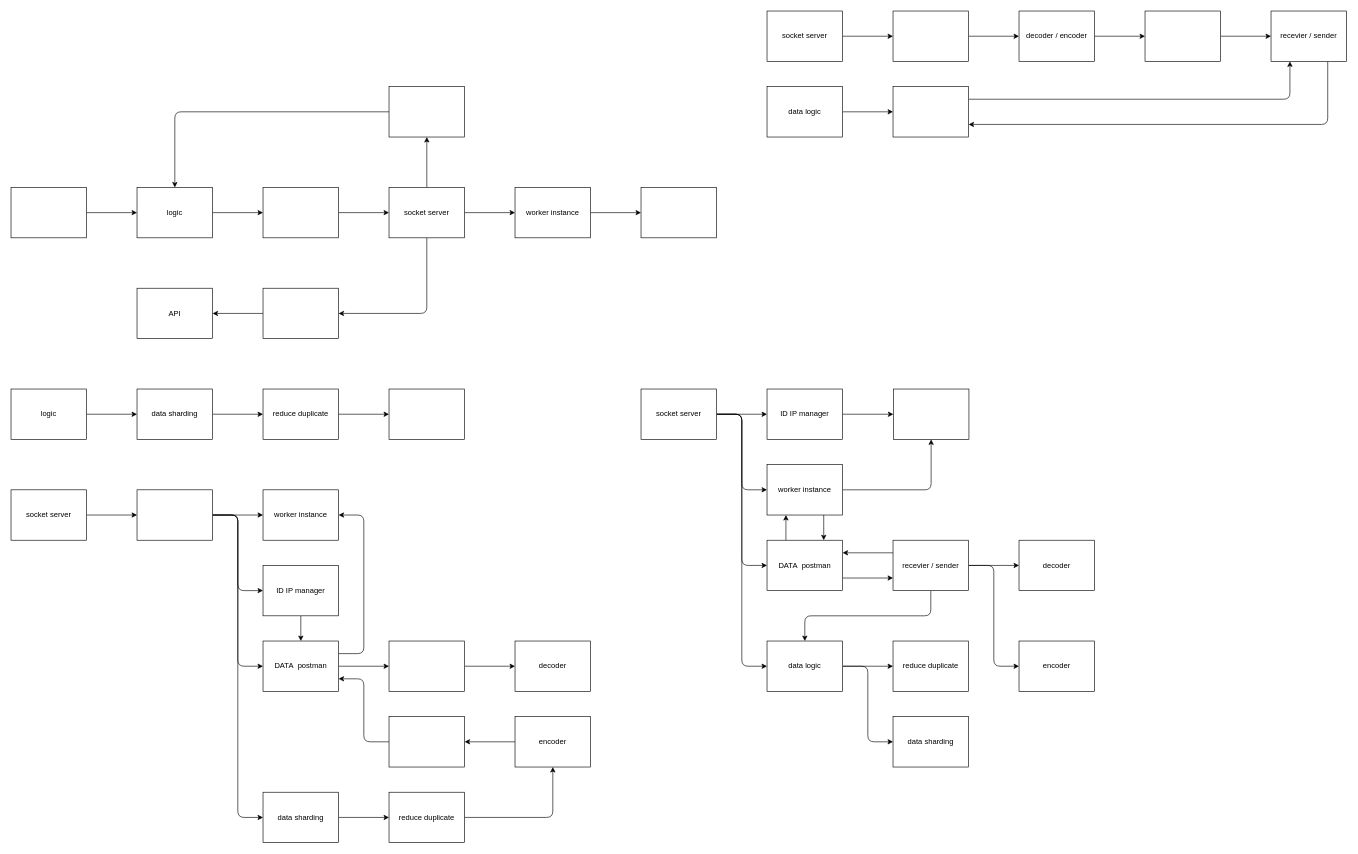
The diagram is 1358 pixels wide and 854 high, and some of its shapes have lost their labels. The shapes that lost their labels are listed below. From the top down, each one's box as (x1, y1, x2, y2) in pixels, then its label:
(892, 10, 969, 61): worker instance 144 ClientIP=>instanceID
(1144, 10, 1221, 61): jsonAPI
(388, 86, 465, 137): iplist - id table
(892, 86, 969, 137): postman
(10, 187, 87, 238): data
(262, 187, 339, 238): send
(640, 187, 717, 238): client list
(262, 288, 339, 339): receive
(388, 388, 465, 439): to send
(893, 388, 969, 439): worker ID client IP table
(136, 489, 213, 540): plugins
(388, 640, 465, 691): recevier
(388, 716, 465, 767): sender
